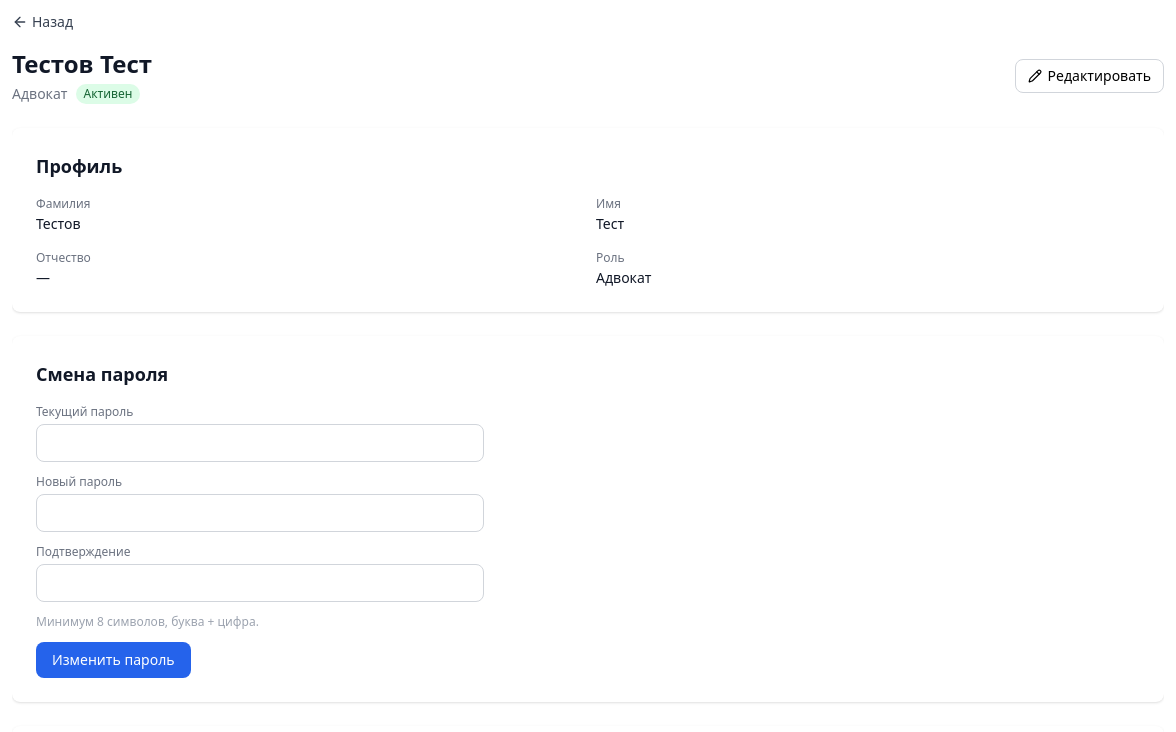
Change password › validates min length
expect the password field labelled "Новый пароль" is shown: met, box [36,494,484,532]
Type "OldPass1" into the password field labelled "Текущий пароль".
click(260, 443); type("OldPass1")  # box [36,424,484,462]
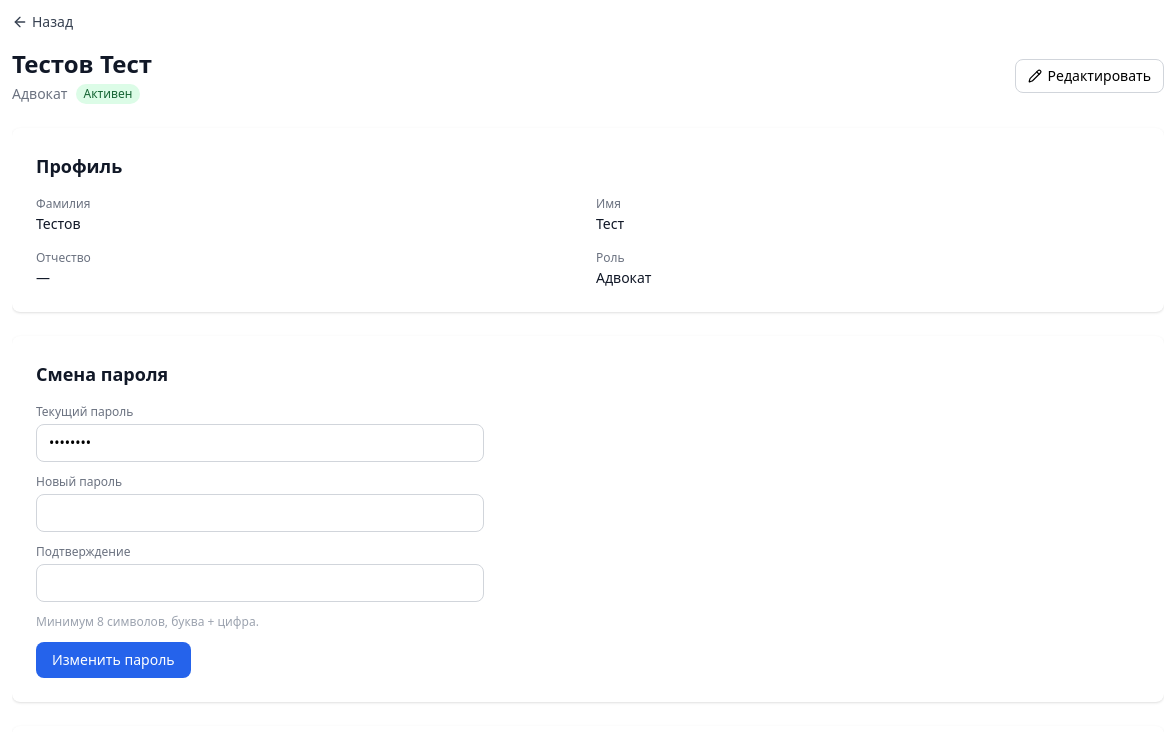
Type "ab1" into the password field labelled "Новый пароль".
click(260, 513); type("ab1")  # box [36,494,484,532]
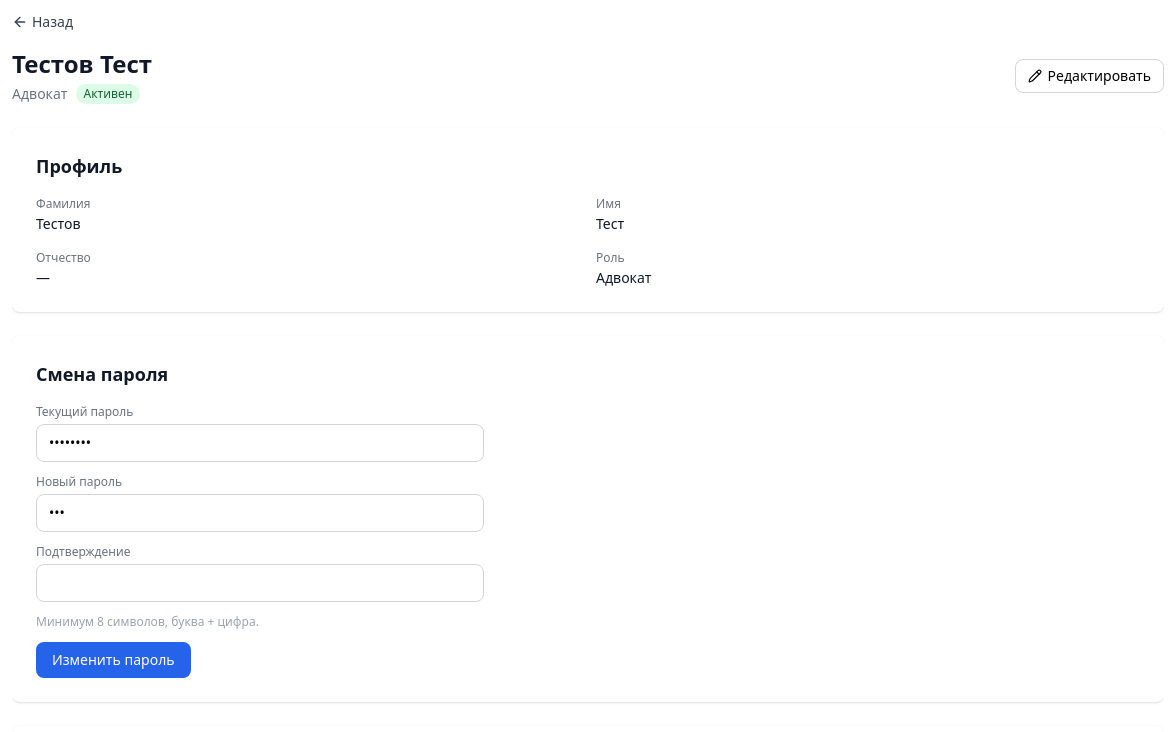
Type "ab1" into the password field labelled "Подтверждение".
click(260, 583); type("ab1")  # box [36,564,484,602]
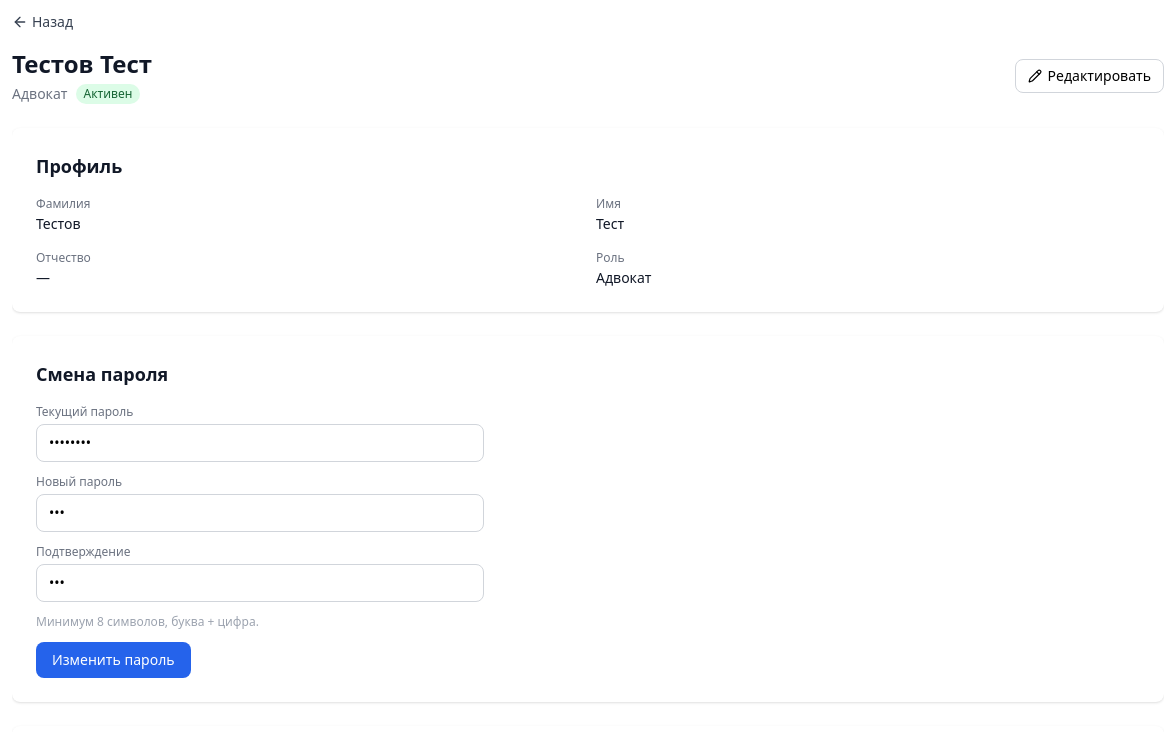
Click the button "Изменить пароль".
click(113, 660)  # box [36,642,191,678]
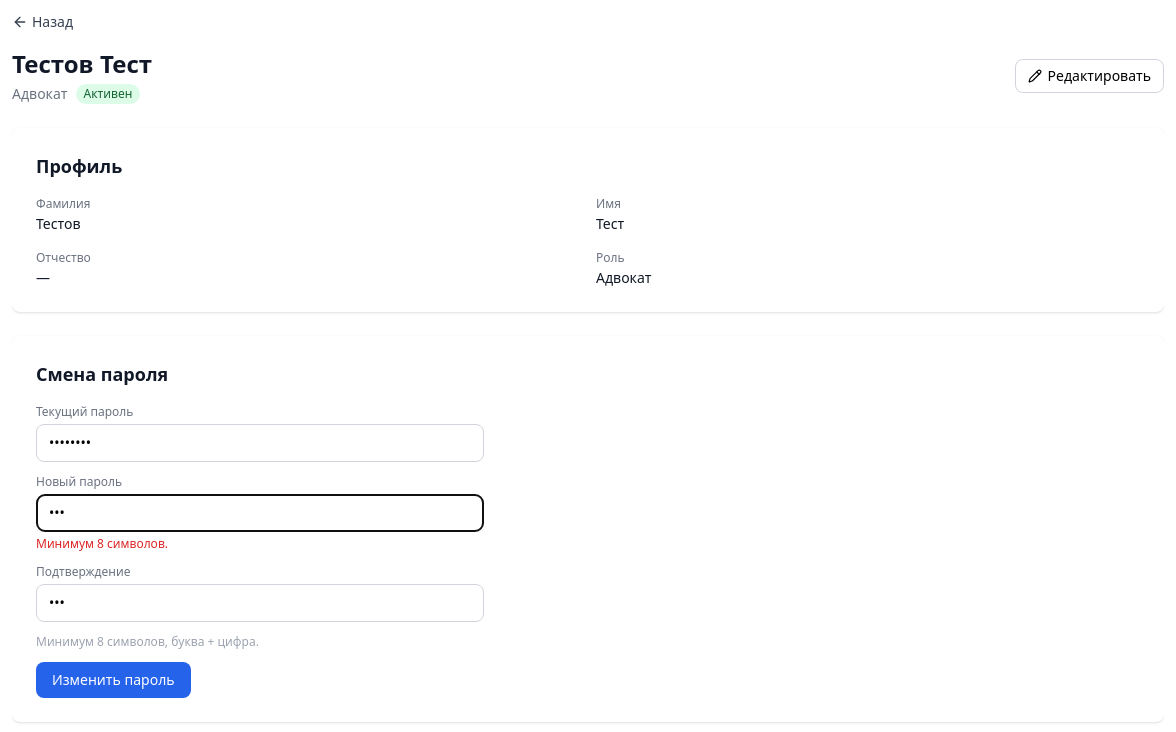
expect the text "Минимум 8 символов." is shown: met, box [36,535,168,552]
